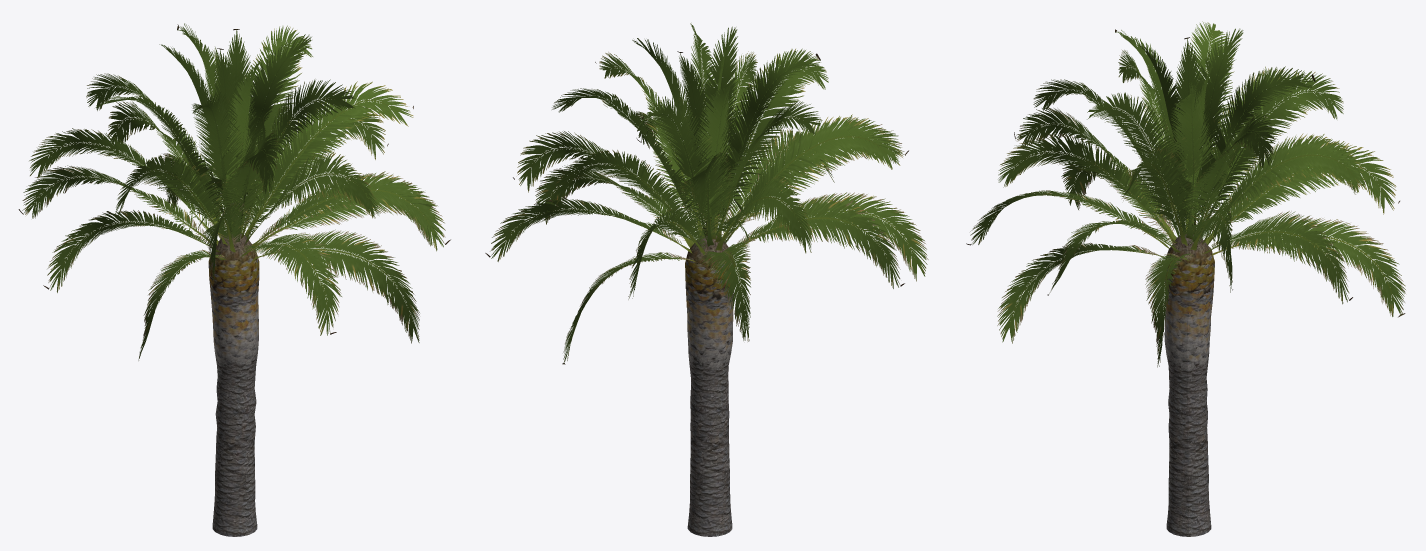
The model's file is palma-33.glb.
The picture shows the model from 3 angles, left to right: view 1: azimuth 30°, elevation 25°; view 2: azimuth 150°, elevation 25°; view 3: azimuth 270°, elevation 25°; orthographic projection.
Visible parts, largest first — view 1: palma-33; view 2: palma-33; view 3: palma-33.
Part boxes in pixels (x1=…): palma-33: x1=18, y1=23, x2=450, y2=536; palma-33: x1=485, y1=23, x2=928, y2=536; palma-33: x1=966, y1=21, x2=1405, y2=536.
Size of the model in its own units: 6.62 by 7.94 by 6.58.
2 materials, 2 textured.
